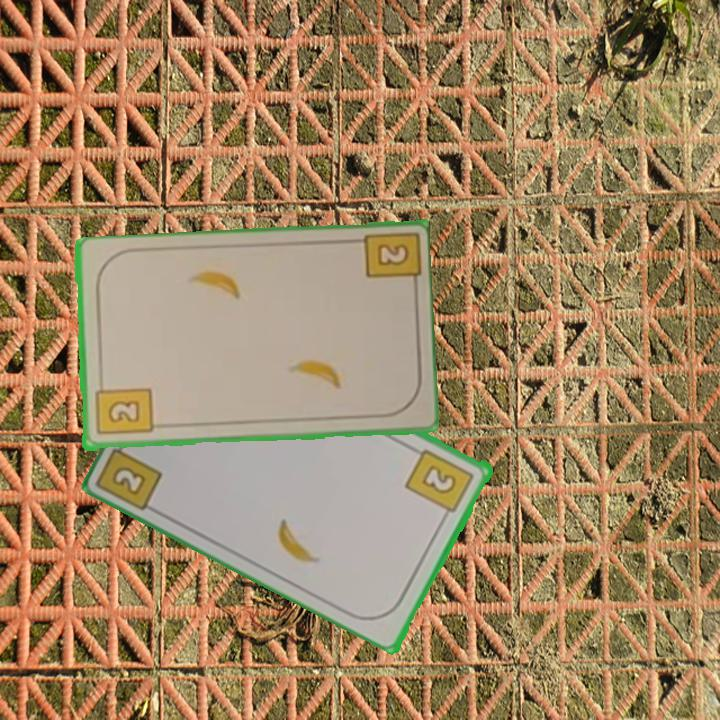2b: (402, 445, 478, 523), (91, 377, 154, 438), (108, 462, 150, 498), (373, 240, 412, 269)
